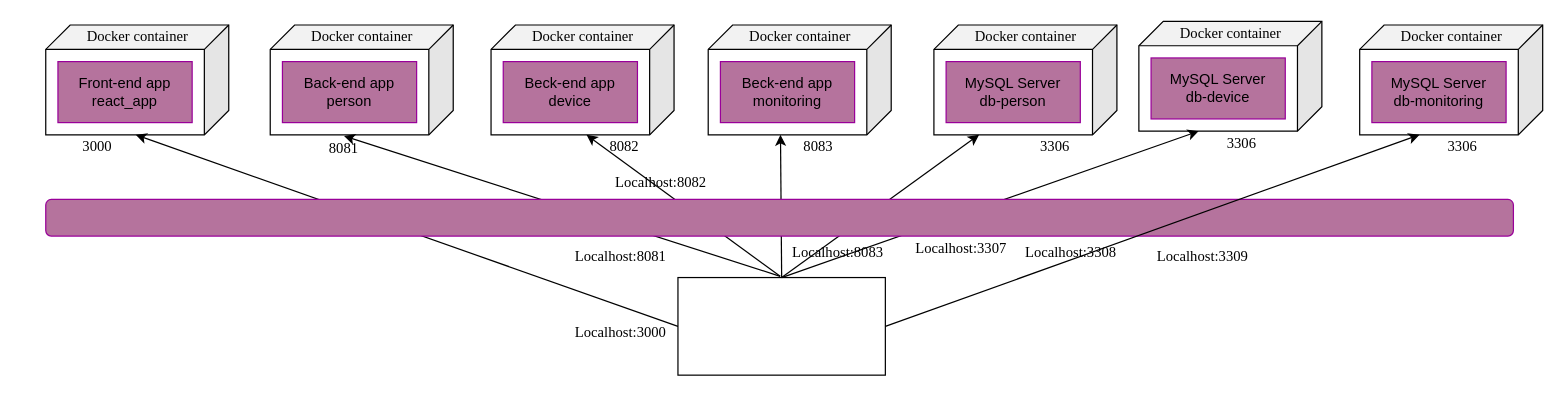
The diagram is 1564 pixels wide and 397 high, and some of its shapes have lost their labels. The shapes that lost their labels are listed below. From the top down, each one's box as (x1, y1, x2, y2) in pixels, then its label:
(45, 198, 1513, 236): DOCKER
(677, 276, 885, 375): Browser
